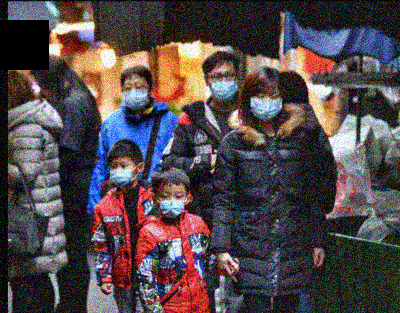with_mask: (248, 89, 284, 123), (208, 69, 238, 103), (121, 80, 150, 114), (157, 187, 186, 219), (107, 159, 132, 186)
